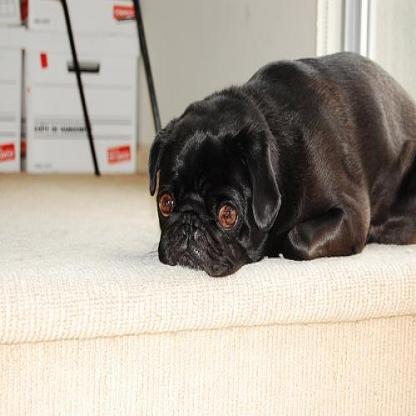pug: (148, 48, 414, 281)
